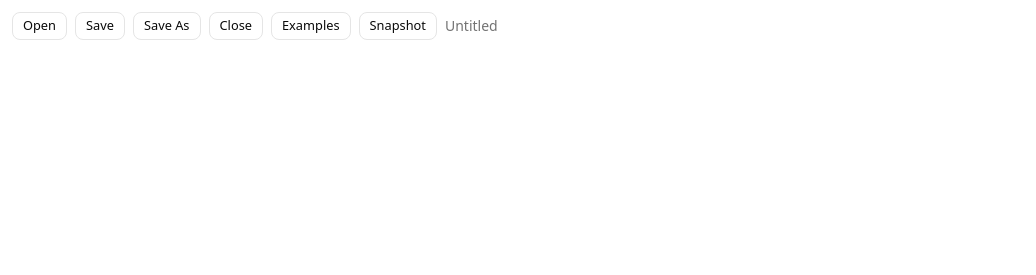
FileControls › shows an error message when the import fails, and keeps the text for correction
Click the button "Snapshot" at point(398, 26), box 358,12 -> 437,40
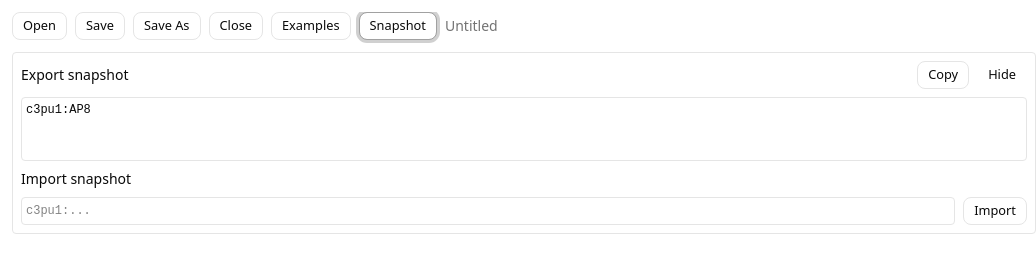
Type "garbage" into the field labelled "Import snapshot" at point(488, 211), box 21,197 -> 955,225
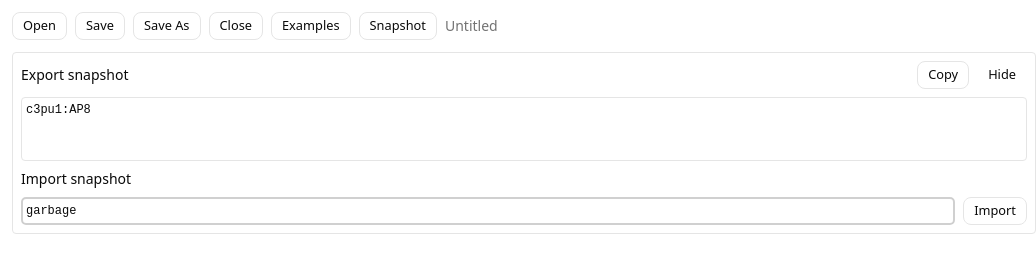
Click the button "Import" at point(995, 211), box 963,197 -> 1027,225
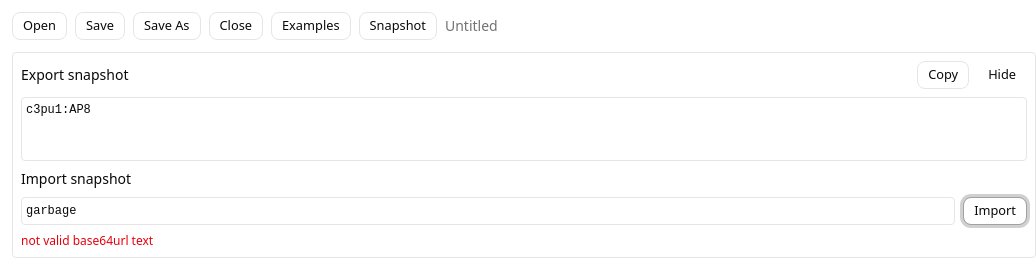
Result: the text "not valid base64url text" is shown at 21,232 -> 153,249
